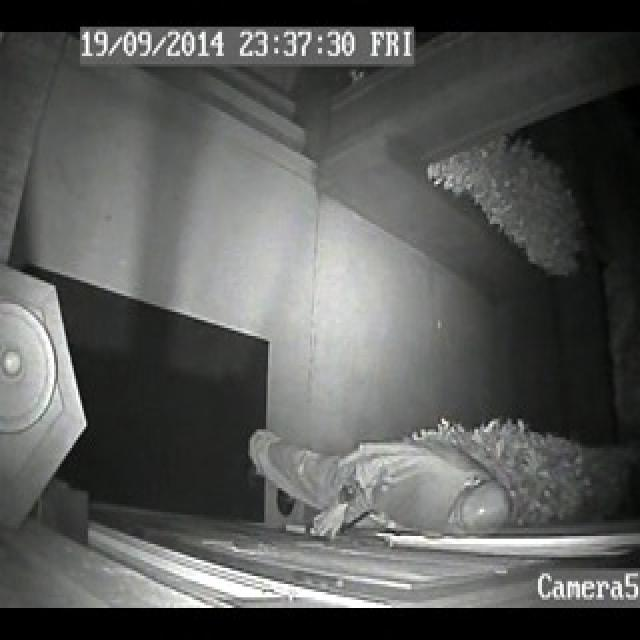thief: (242, 407, 522, 541)
